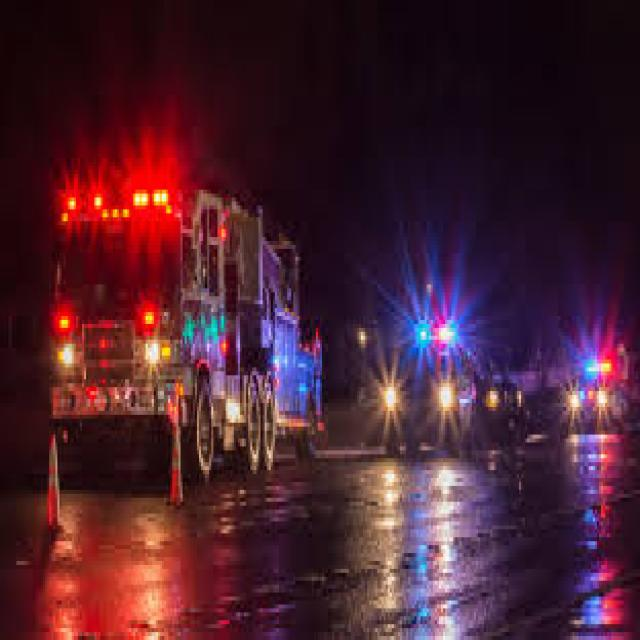emergency lights: (411, 310, 461, 354), (580, 363, 620, 379)
